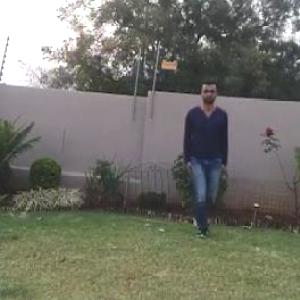follow: (177, 78, 231, 235)
